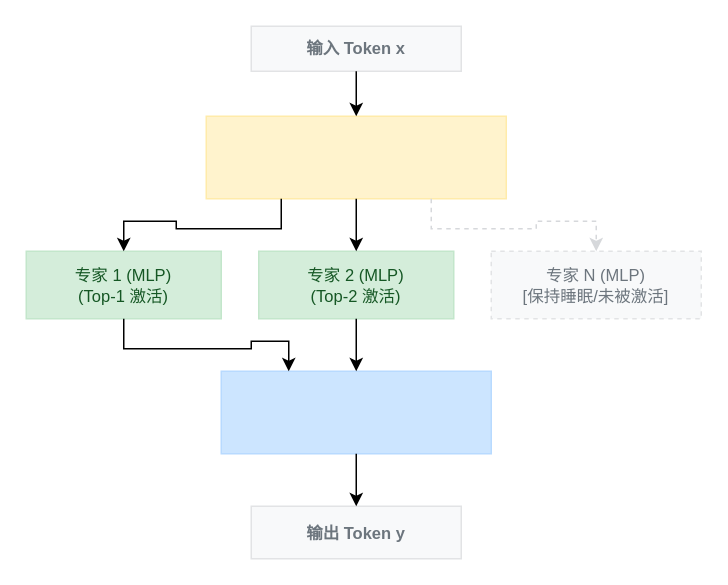
This 728x585 diagram has some shape labels left out. Each missing label, with the centre of its shape:
"路由器 Router (Softmax 亲和力计算)" belongs at pixel 355 157.
"门控权重融合 (y = Σ G(x)_i * E_i(x))" belongs at pixel 355 412.
